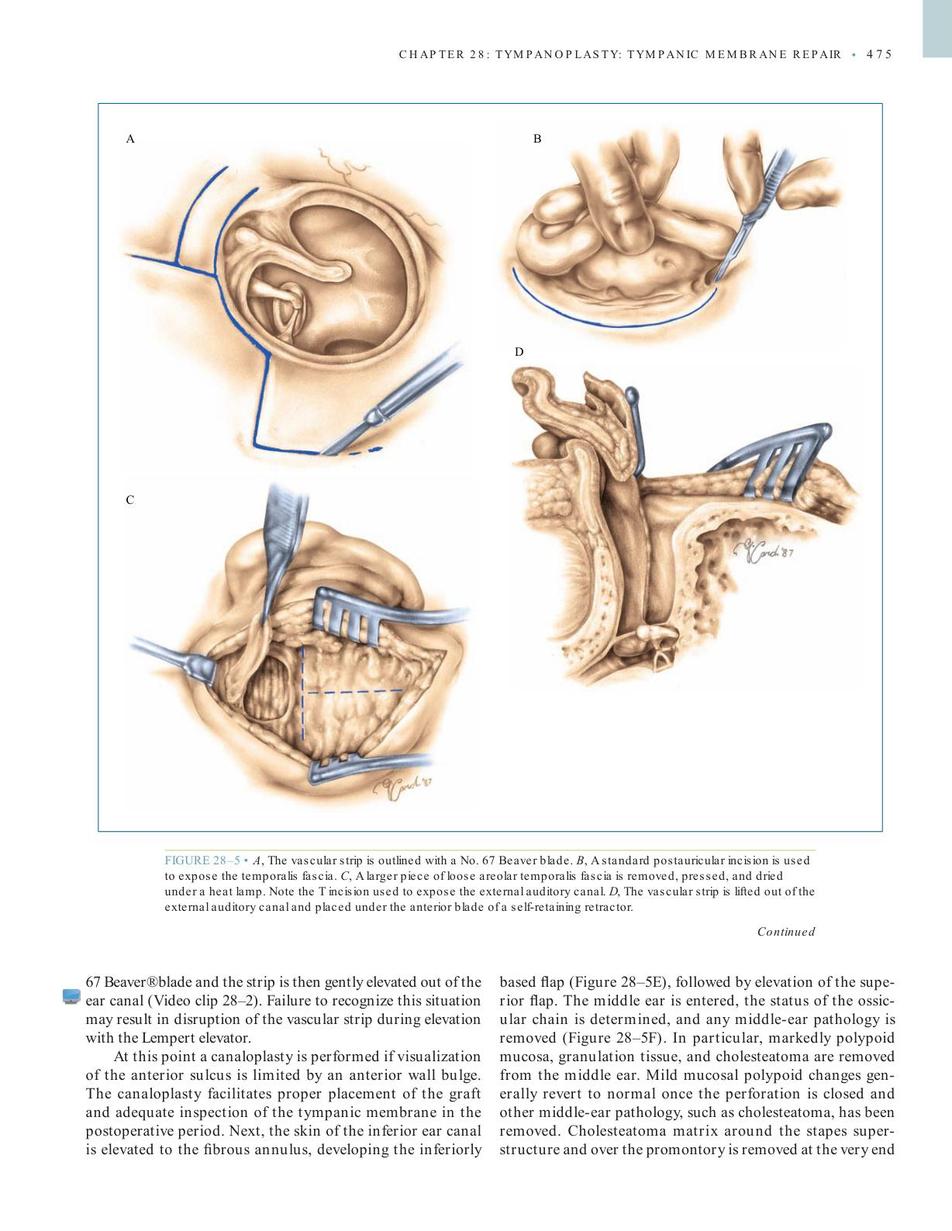caption: (163, 853, 817, 914), (125, 494, 136, 506), (513, 346, 525, 357), (125, 133, 136, 144), (532, 133, 543, 144)
header: (398, 47, 844, 60)
image: (493, 343, 872, 720), (111, 122, 473, 474), (112, 480, 481, 820), (490, 122, 859, 341)
text: (496, 970, 898, 1160), (82, 971, 484, 1160)
